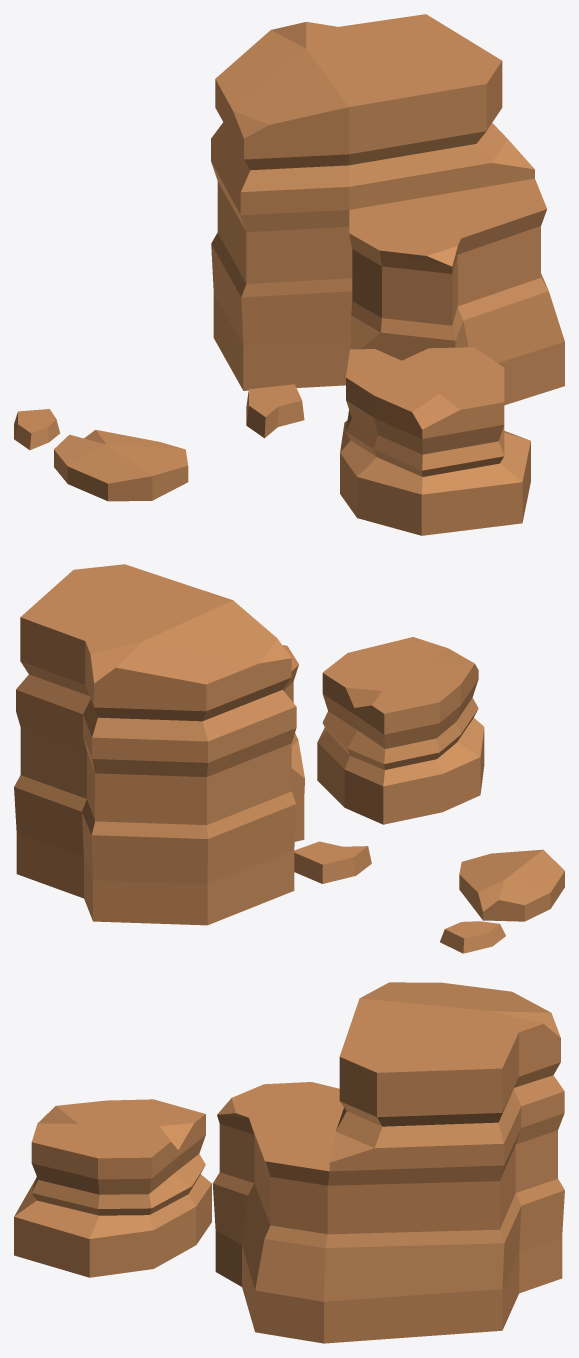
File: SandRocks_M7_LOD1.fbx
The picture shows the model from 3 angles, top to bottom: view 1: azimuth 30°, elevation 25°; view 2: azimuth 150°, elevation 25°; view 3: azimuth 270°, elevation 25°; orthographic projection. The views are drawn at different scales.
Visible parts, largest first — view 1: 5.001; view 2: 5.001; view 3: 5.001.
Part boxes in pixels (x1,y1,x2,y2): 5.001: [14, 14, 564, 535]; 5.001: [14, 564, 564, 953]; 5.001: [14, 982, 564, 1343].
Bounding box in the file's own units: 58.3 × 31.3 × 59.68.
